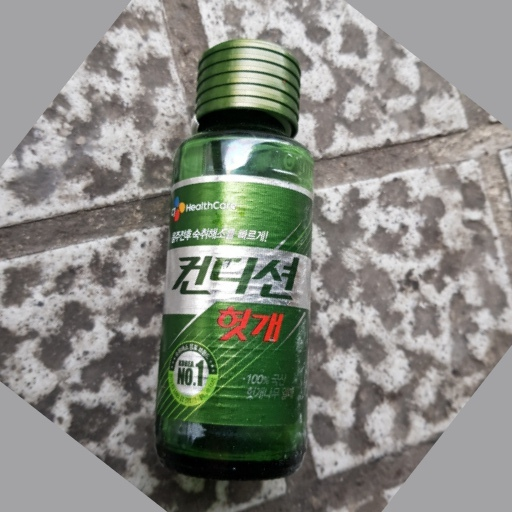Glass_4: (142, 36, 315, 476)
